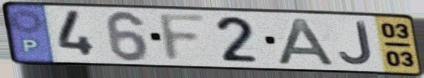2: (215, 15, 267, 64)
4: (56, 8, 102, 62)
6: (105, 9, 150, 63)
A: (275, 17, 339, 68)
F: (156, 12, 210, 64)
J: (337, 20, 375, 67)
